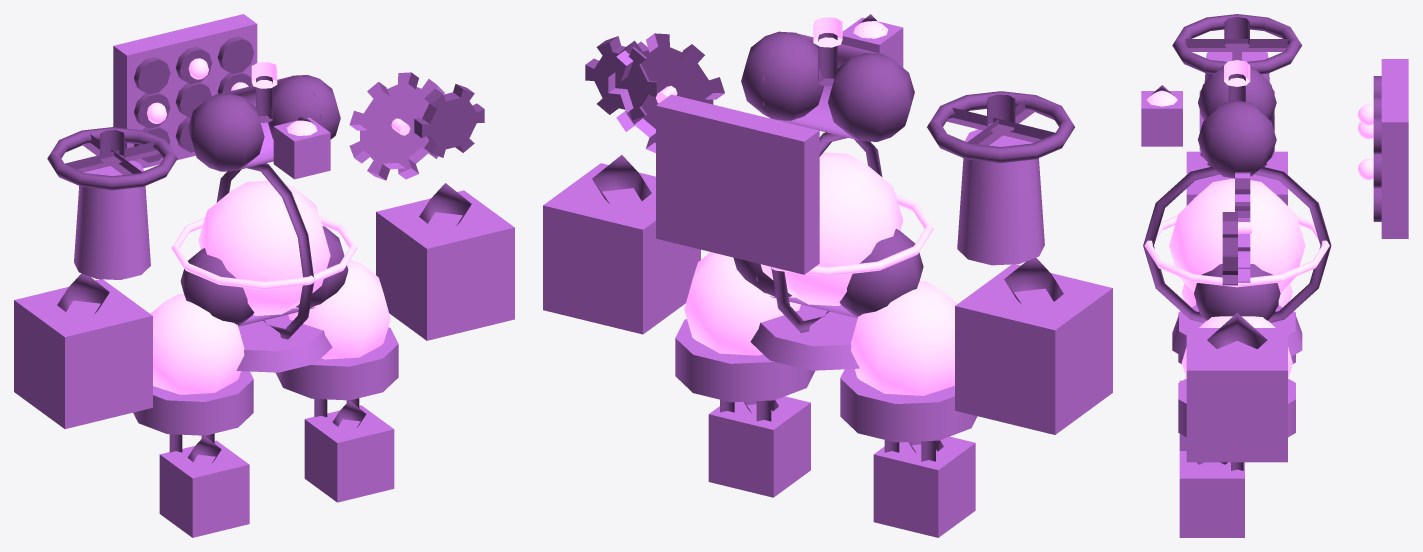
Rendered from golem_115.glb.
3 views of the same model, side by side, from view 1: azimuth 30°, elevation 25°; view 2: azimuth 150°, elevation 25°; view 3: azimuth 270°, elevation 25° (orthographic). The views are drawn at different scales.
Visible parts, largest first — view 1: Body, Detail, Glow; view 2: Body, Detail, Glow; view 3: Body, Detail, Glow.
Part boxes in pixels (bbox=[...]): Body: bbox=[14, 14, 514, 537]; Detail: bbox=[47, 36, 484, 462]; Glow: bbox=[147, 58, 410, 394]; Body: bbox=[543, 17, 1112, 537]; Detail: bbox=[585, 14, 1074, 461]; Glow: bbox=[655, 17, 957, 395]; Body: bbox=[1141, 52, 1408, 537]; Detail: bbox=[1143, 14, 1381, 470]; Glow: bbox=[1144, 60, 1373, 379].
Size of the model in its own units: 1.34 by 1.21 by 0.6924.
